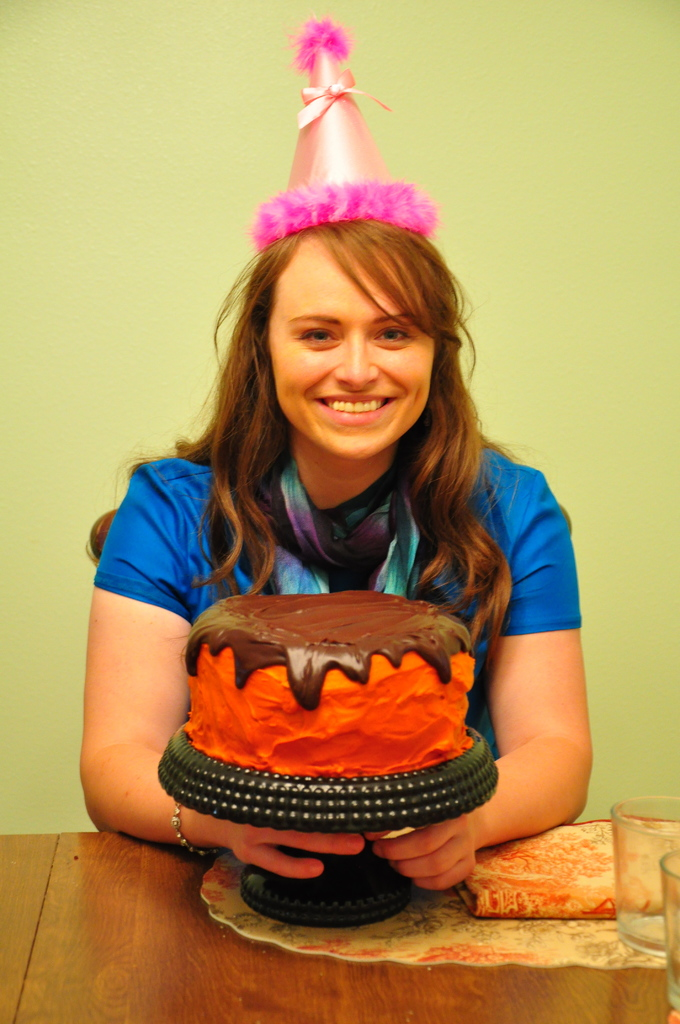cake: (185, 588, 476, 776)
